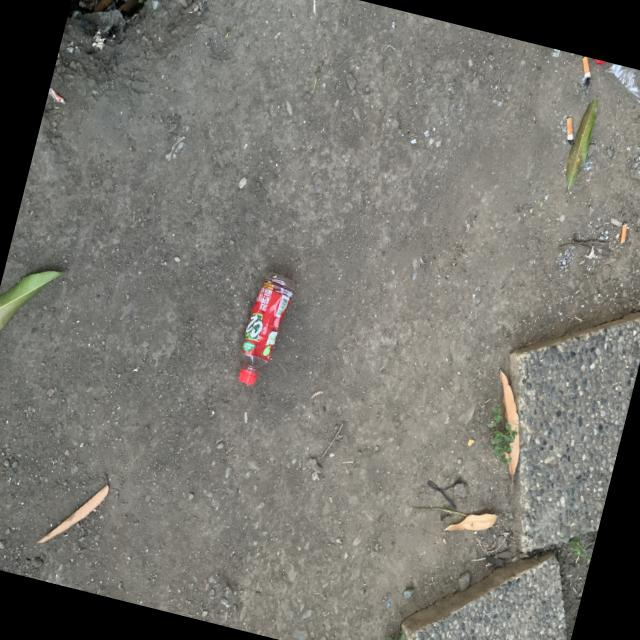Bottle: (237, 274, 292, 384)
